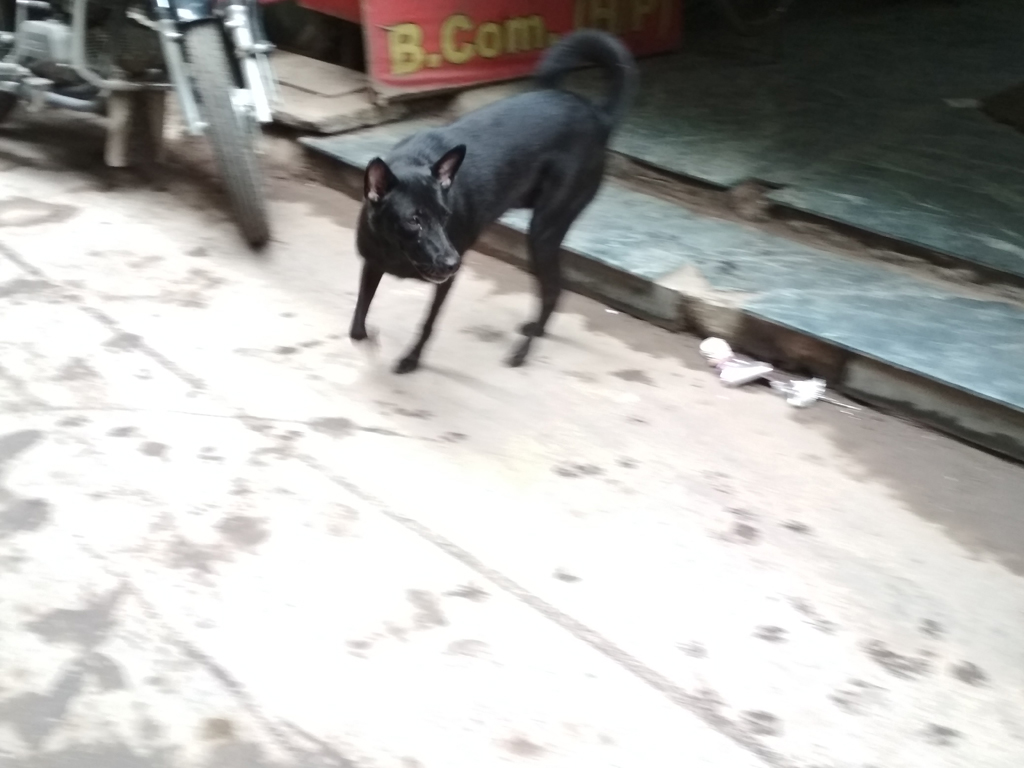dog: (348, 28, 638, 372)
